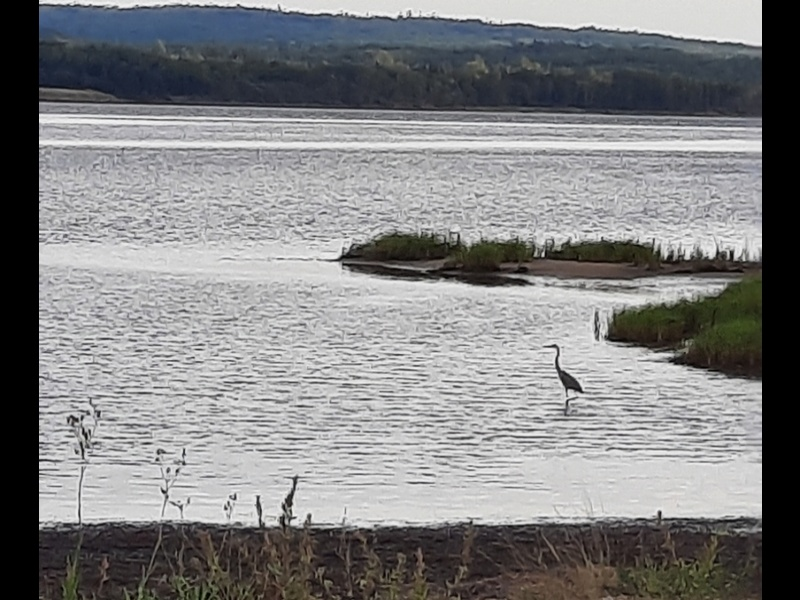heron: (543, 343, 584, 404)
